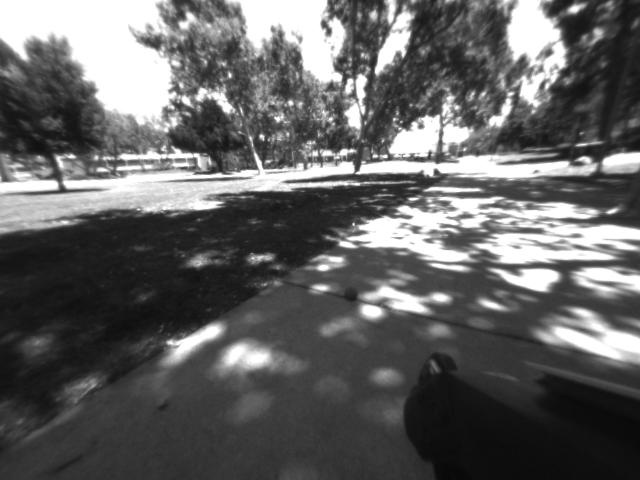dogtoy: (337, 282, 363, 304)
